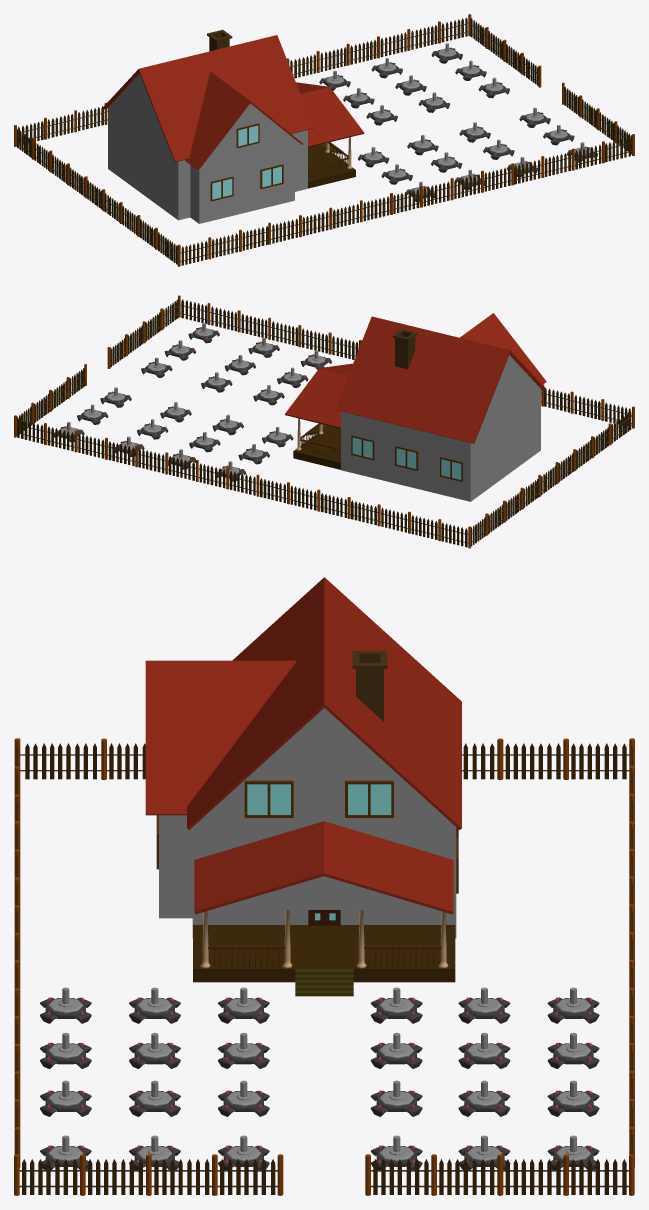
Rendered from map3.fbx.
3 views of the same model, one above another, from view 1: azimuth 30°, elevation 25°; view 2: azimuth 150°, elevation 25°; view 3: azimuth 270°, elevation 25° (orthographic). The views are drawn at different scales.
Visible parts, largest first — view 1: Hazalap.001, Hazalap, oldalhaz, oldalhaz.001, teto3, terasz, Ablak005, Ablak004, Ablak006, kemeny; view 2: Hazalap.001, Hazalap, teto3, oldalhaz.001, terasz, kemeny, Ablak007, Ablak008, Ablak009; view 3: Hazalap.001, Hazalap, oldalhaz.001, teto3, terasz, kisteto, oldalhaz, Ablak001, Ablak, kemeny.
Boxes of the visible parts, bbox=[...] form: Hazalap.001: bbox=[102, 35, 313, 162]; Hazalap: bbox=[108, 73, 307, 220]; oldalhaz: bbox=[190, 103, 294, 223]; oldalhaz.001: bbox=[185, 72, 303, 170]; teto3: bbox=[296, 82, 364, 147]; terasz: bbox=[308, 144, 355, 188]; Ablak005: bbox=[210, 176, 233, 201]; Ablak004: bbox=[236, 123, 259, 148]; Ablak006: bbox=[260, 164, 283, 189]; kemeny: bbox=[207, 29, 232, 51]; Hazalap.001: bbox=[335, 316, 546, 443]; Hazalap: bbox=[341, 355, 540, 501]; teto3: bbox=[285, 363, 352, 428]; oldalhaz.001: bbox=[460, 313, 546, 384]; terasz: bbox=[293, 425, 340, 469]; kemeny: bbox=[392, 329, 417, 369]; Ablak007: bbox=[351, 435, 374, 460]; Ablak008: bbox=[395, 446, 418, 470]; Ablak009: bbox=[440, 457, 462, 481]; Hazalap.001: bbox=[187, 577, 461, 829]; Hazalap: bbox=[192, 708, 456, 938]; oldalhaz.001: bbox=[145, 660, 296, 815]; teto3: bbox=[194, 821, 453, 914]; terasz: bbox=[193, 925, 455, 982]; kisteto: bbox=[211, 876, 436, 909]; oldalhaz: bbox=[159, 815, 192, 918]; Ablak001: bbox=[244, 780, 293, 817]; Ablak: bbox=[345, 780, 393, 817]; kemeny: bbox=[352, 651, 387, 721].
Bounding box in the file's own units: 3629 × 994 × 2275.
